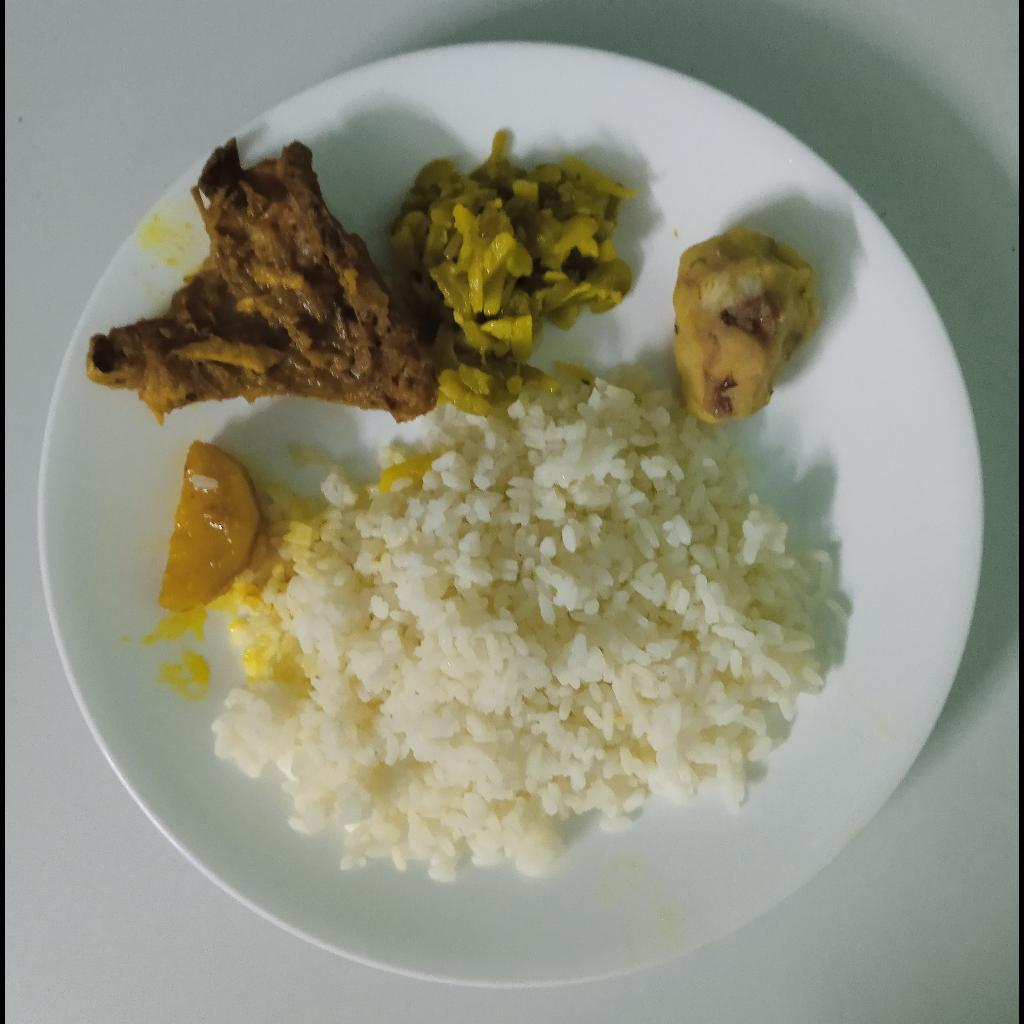chicken: (86, 138, 439, 430)
dundol: (391, 130, 640, 422)
potato: (159, 442, 264, 614)
potato-mashed: (672, 227, 821, 425)
rice: (212, 358, 848, 884)
